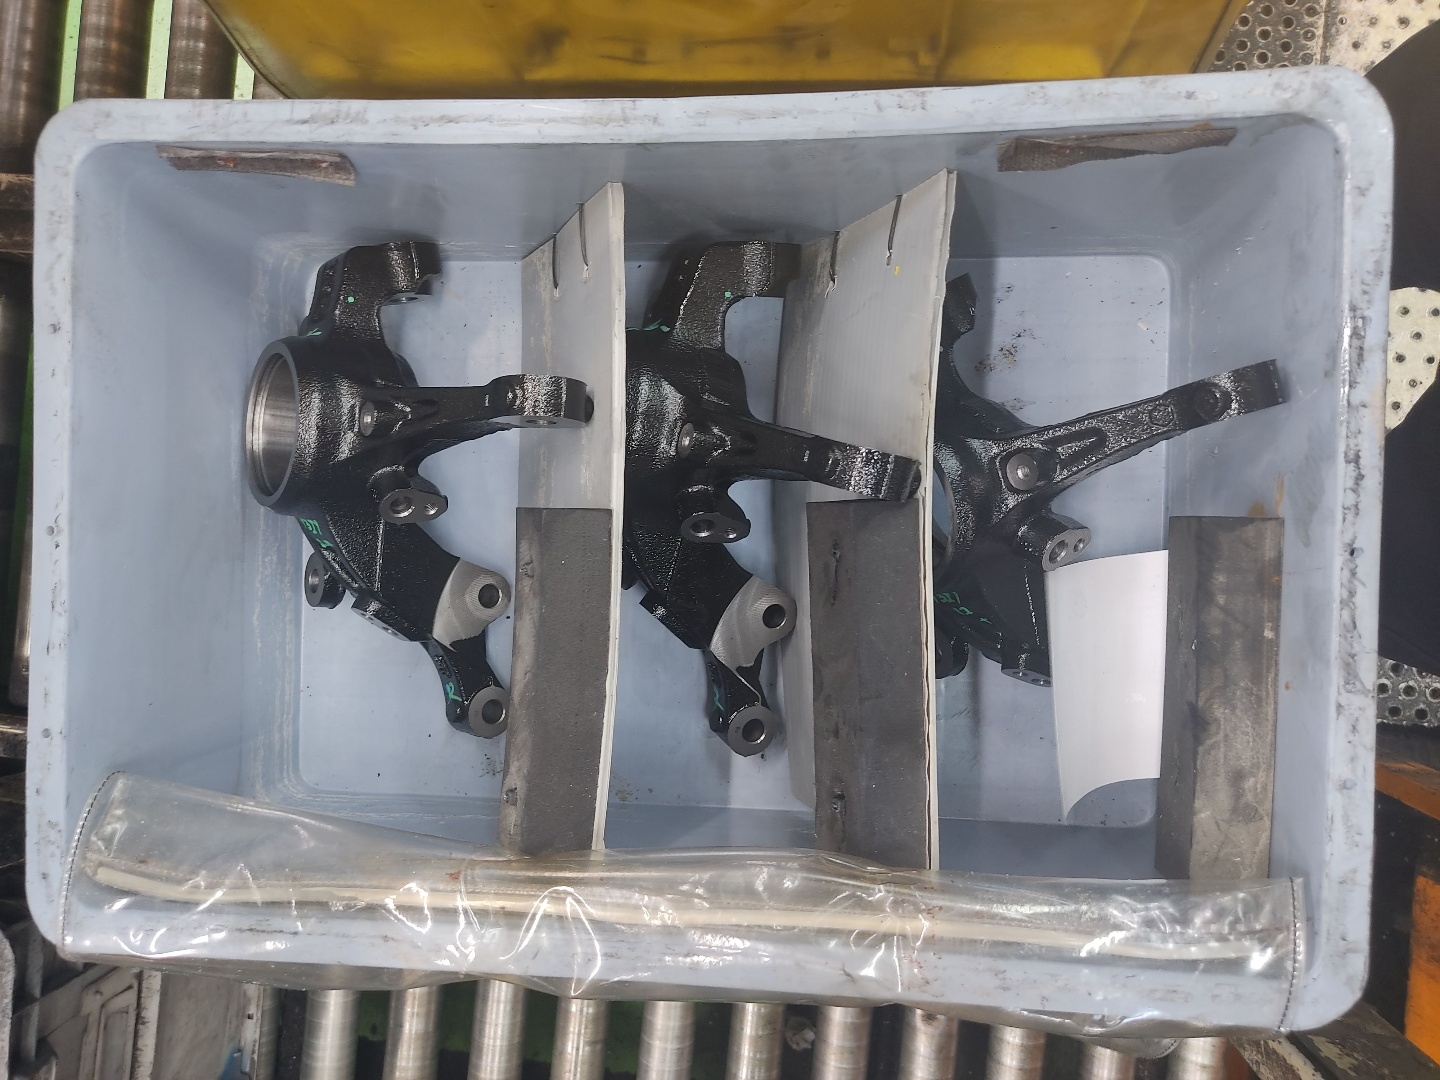abs-rh: (935, 236, 1299, 757), (232, 230, 594, 749), (615, 225, 929, 770)
